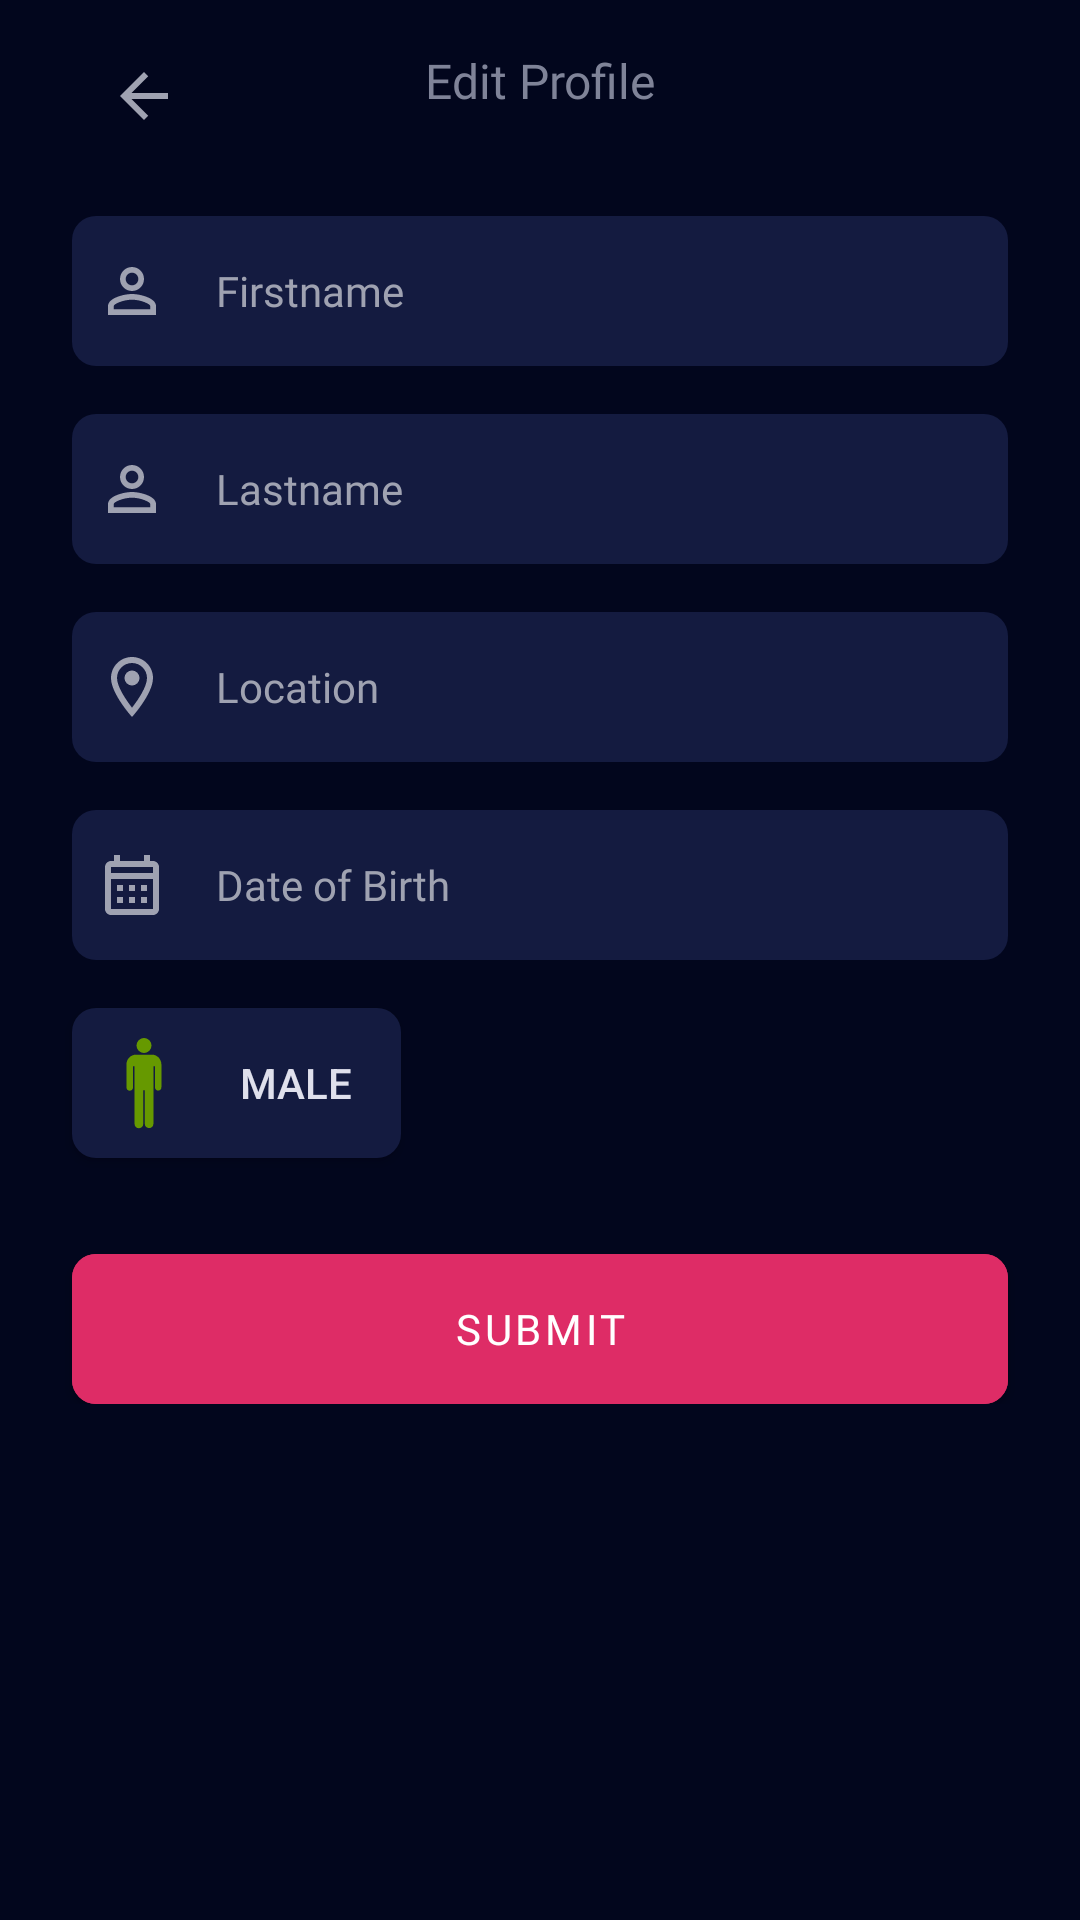

Screen size 1080 x 1920. Icon name, then its center in pixels as [x,y]:
back: [144,96]
